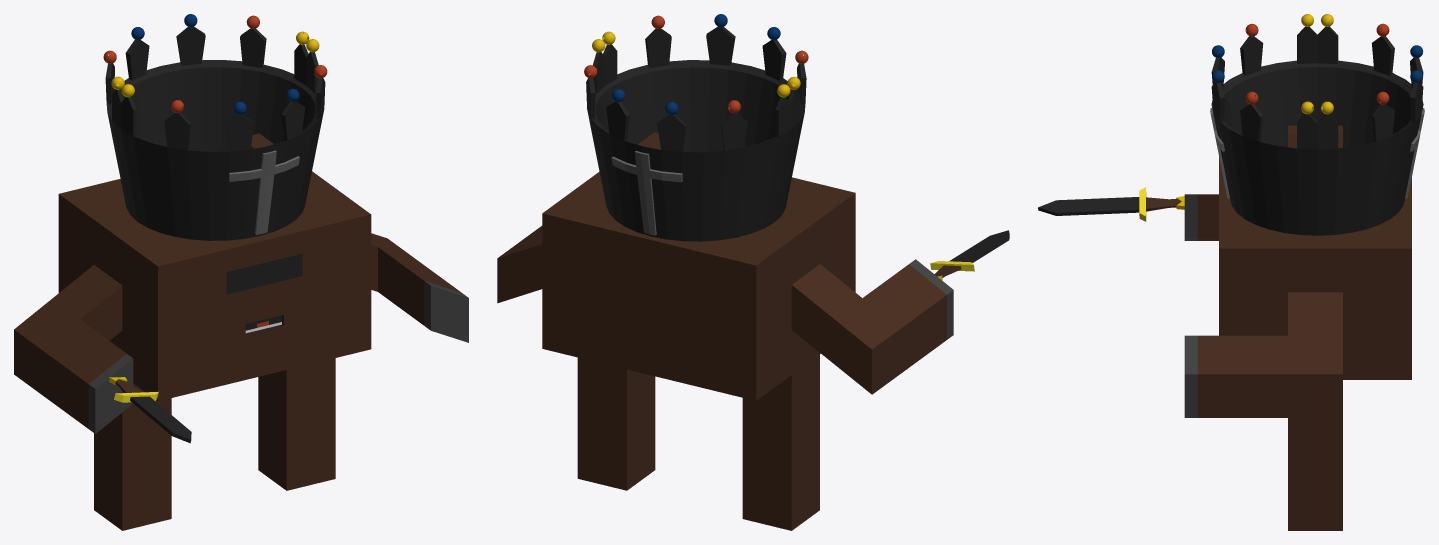
File: EnemigoMaximo.fbx
3 views of the same model, side by side, from view 1: azimuth 30°, elevation 25°; view 2: azimuth 150°, elevation 25°; view 3: azimuth 270°, elevation 25° (orthographic). The views are drawn at different scales.
Visible parts, largest first — view 1: Plane.002, Circle.019, Espada.003; view 2: Plane.002, Circle.019, Espada.003; view 3: Plane.002, Circle.019, Espada.003.
Part boxes in pixels (x1,y1,x2,y2): Plane.002: (14,133,468,530); Circle.019: (103,14,327,240); Espada.003: (109,377,191,443); Plane.002: (497,132,953,530); Circle.019: (584,14,808,241); Espada.003: (930,230,1009,280); Plane.002: (1184,125,1411,530); Circle.019: (1210,14,1424,235); Espada.003: (1038,187,1184,221).
Bounding box in the file's own units: 1003 × 1113 × 923.
Materials: 3 (3 with a texture image).
